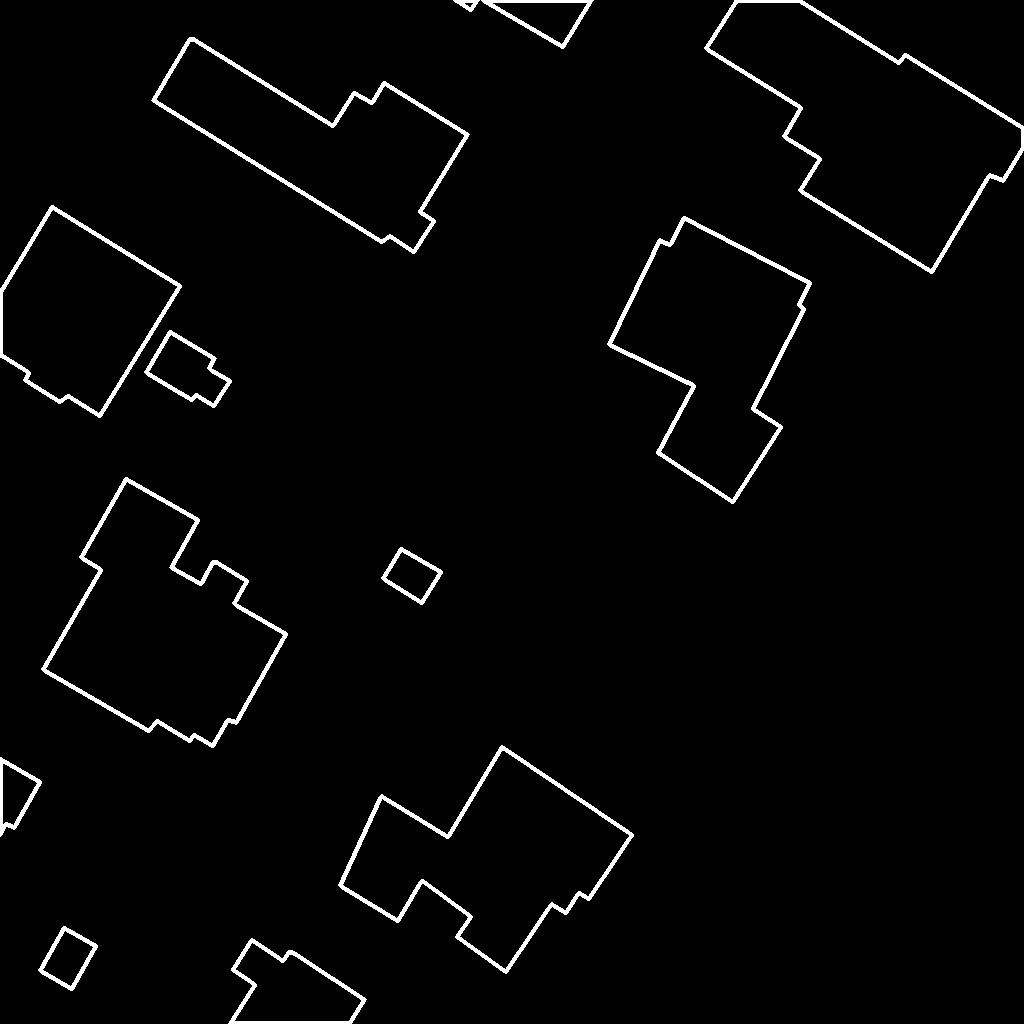building: (706, 0, 1024, 273), (153, 38, 469, 253), (340, 747, 633, 973), (43, 479, 287, 747), (609, 218, 811, 503), (0, 207, 181, 417), (230, 940, 366, 1024), (455, 0, 593, 48), (146, 332, 231, 407), (40, 928, 97, 990), (383, 549, 442, 604), (0, 759, 41, 836)
